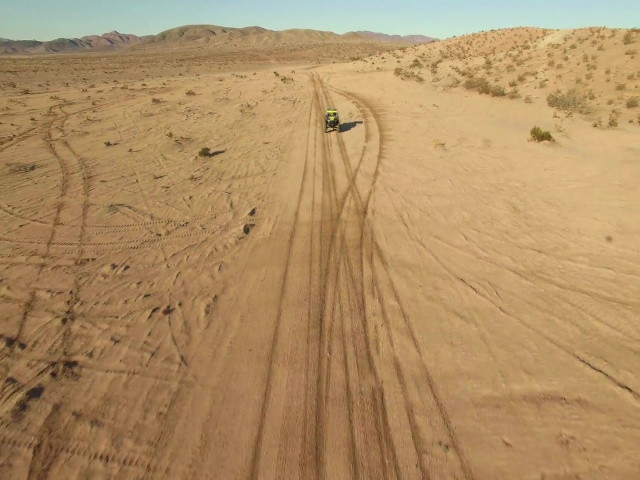vehicle: (323, 107, 342, 134)
